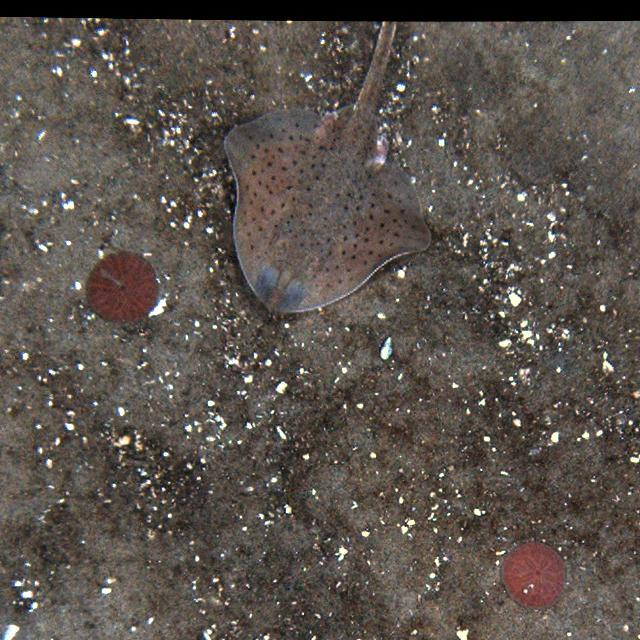skate: (214, 18, 436, 318)
